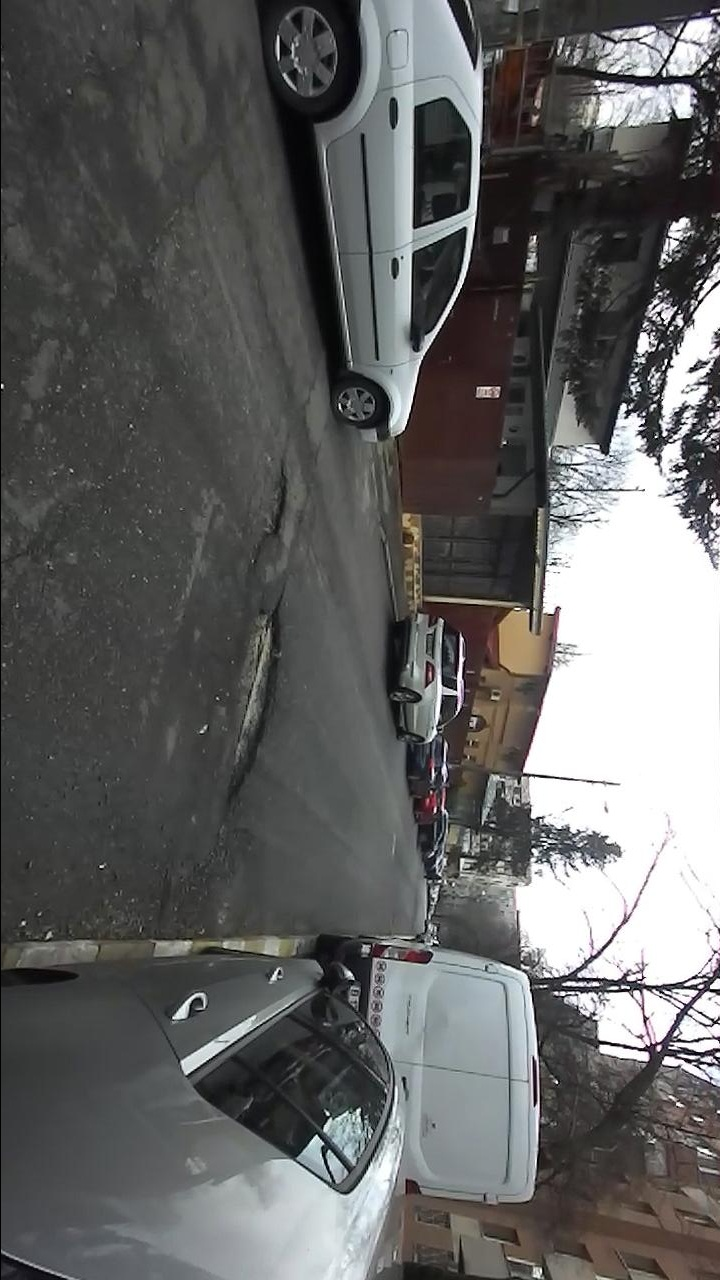pothole: (219, 583, 289, 808), (250, 454, 291, 567)
